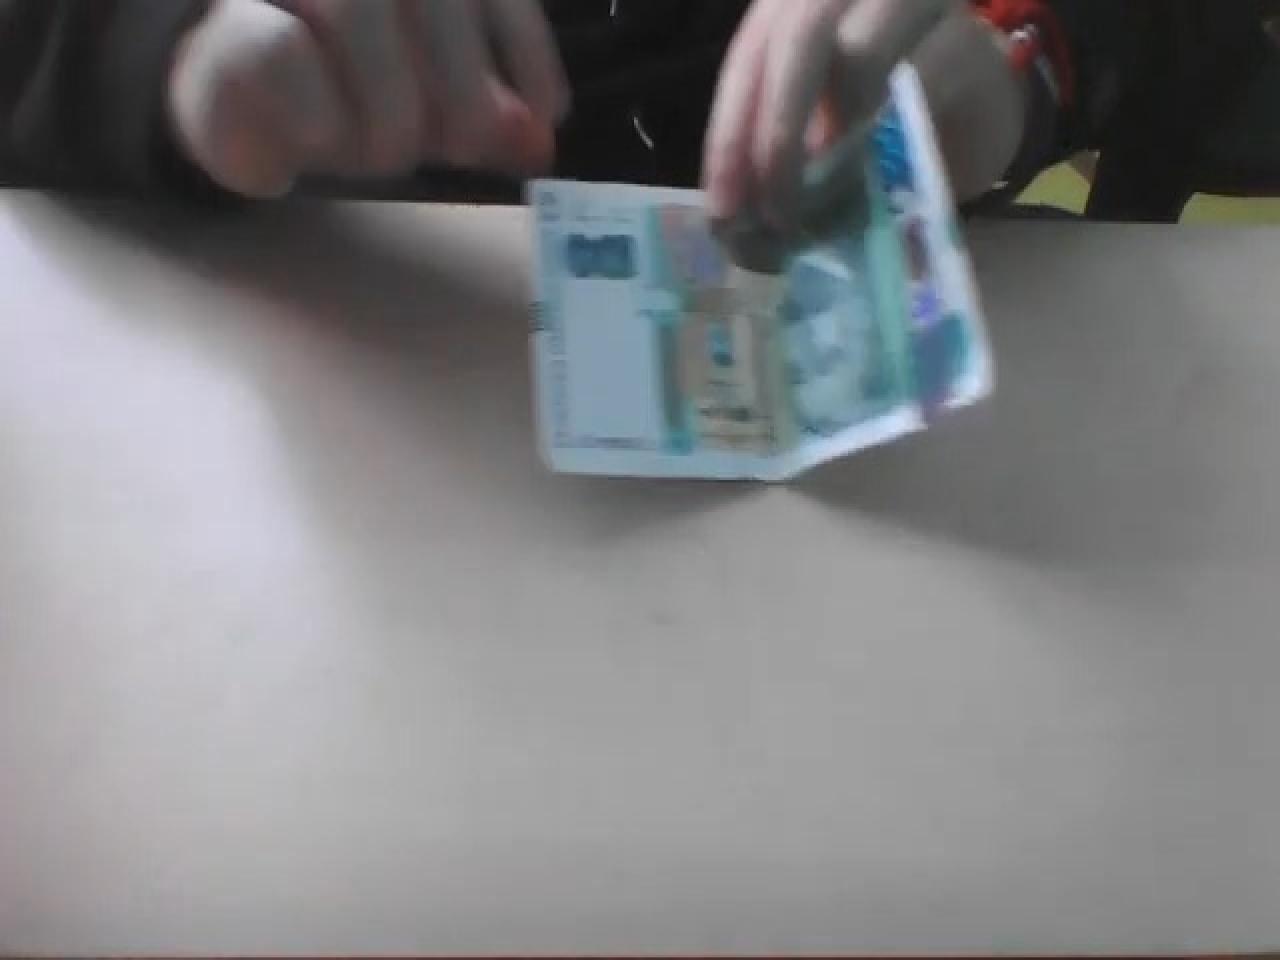100leva: (528, 144, 994, 485)
